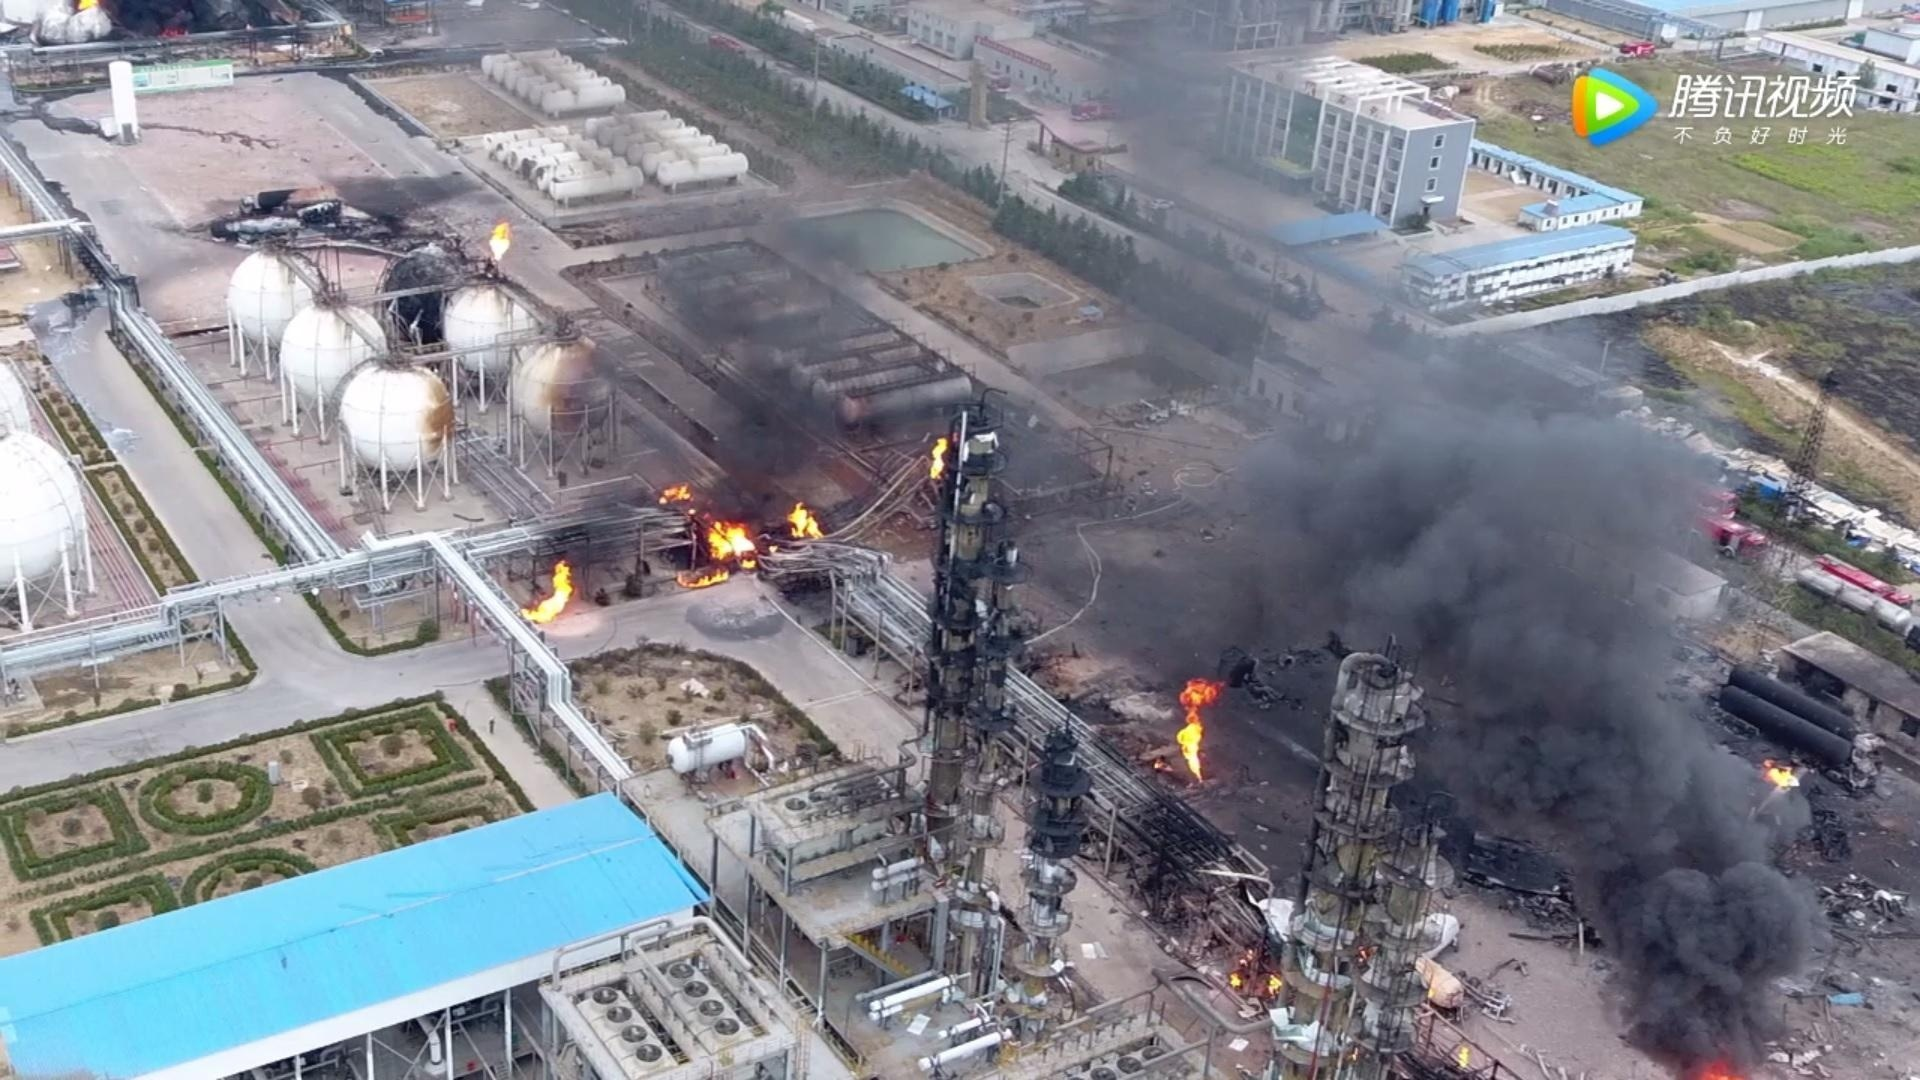fire: (669, 491, 760, 585), (1166, 674, 1216, 779), (521, 555, 575, 624), (1226, 948, 1284, 1000), (786, 501, 822, 539), (483, 218, 513, 258), (1762, 757, 1799, 789), (1692, 1056, 1741, 1080), (922, 435, 949, 473)
